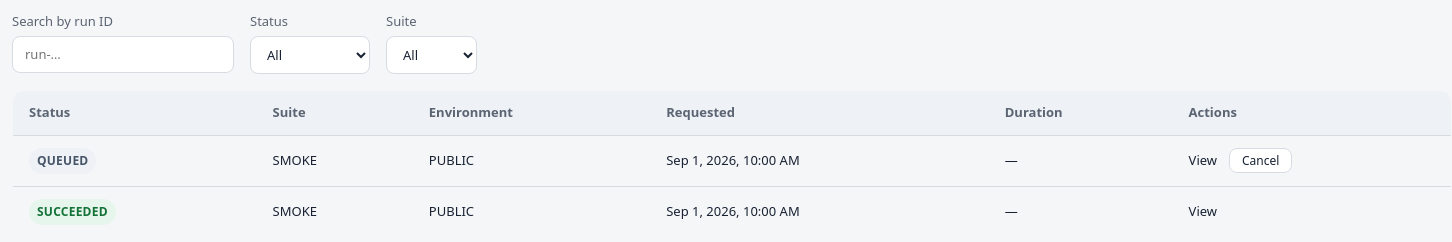
Test: RunsTable › filters rows by status
expect the cell "QUEUED" is shown: met, box [12,135,257,186]
Select "SUCCEEDED" in the dropdown labelled "Status" at point(310, 54), box [250,36,370,74]
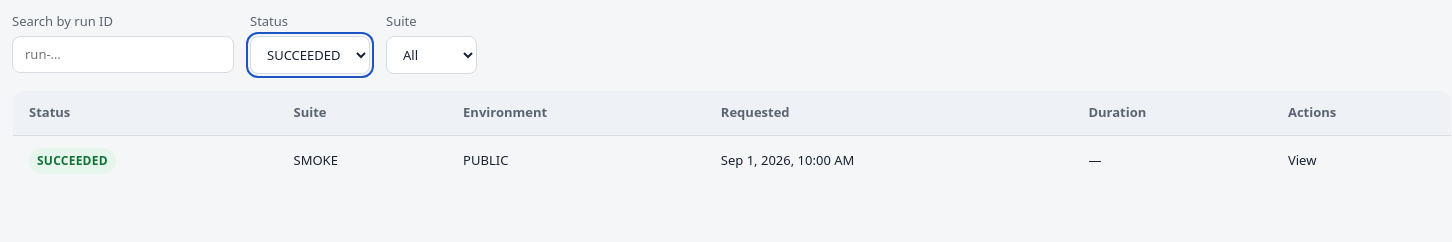
expect the cell "SUCCEEDED" is shown: met, box [12,135,278,186]
expect the text "QUEUED" is gone: met
